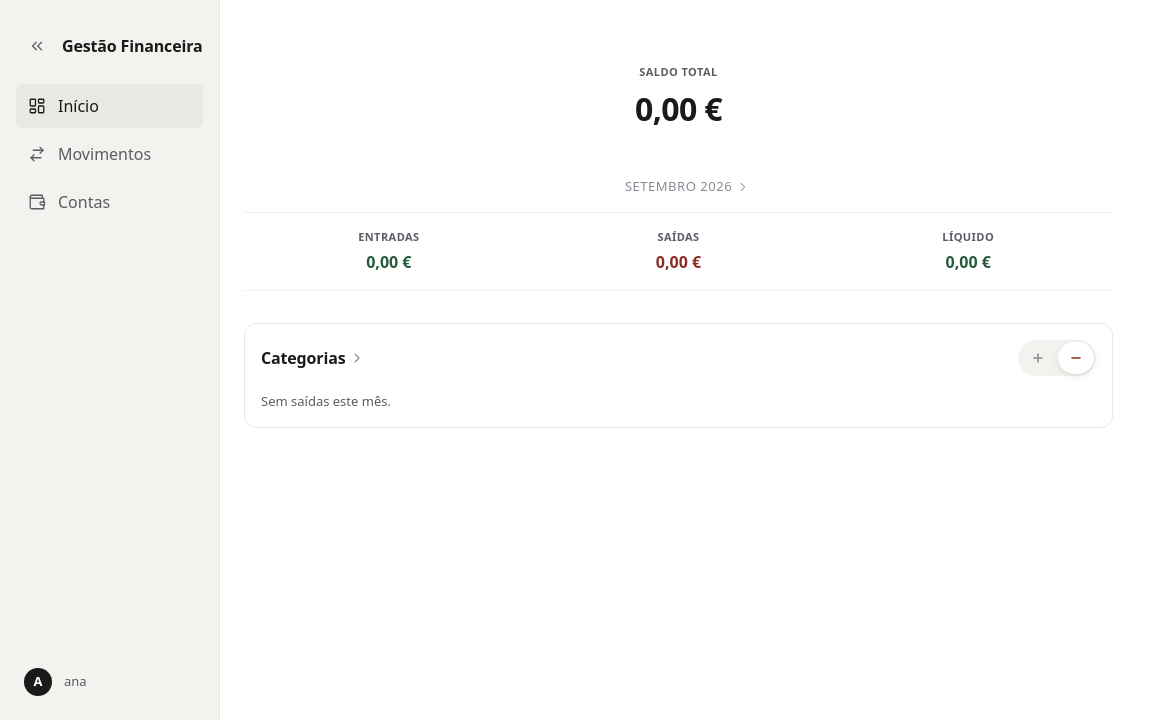
Moldura da aplicação › abre o Perfil ao clicar na zona de perfil da barra lateral
The image size is (1152, 720).
Click the link "A ana".
click(38, 682)  # box [24,668,87,696]
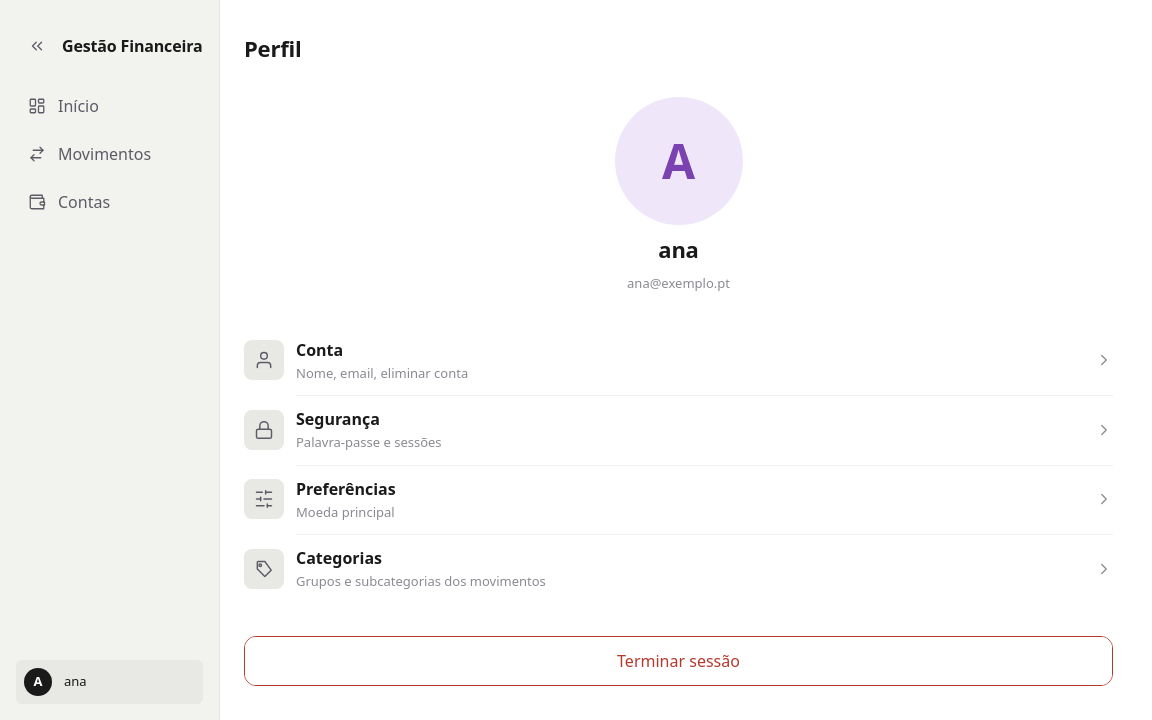
Now the heading "Perfil" is shown, box [244,32,301,65]
Now the text "ana@exemplo.pt" is shown, box [627,274,730,294]
